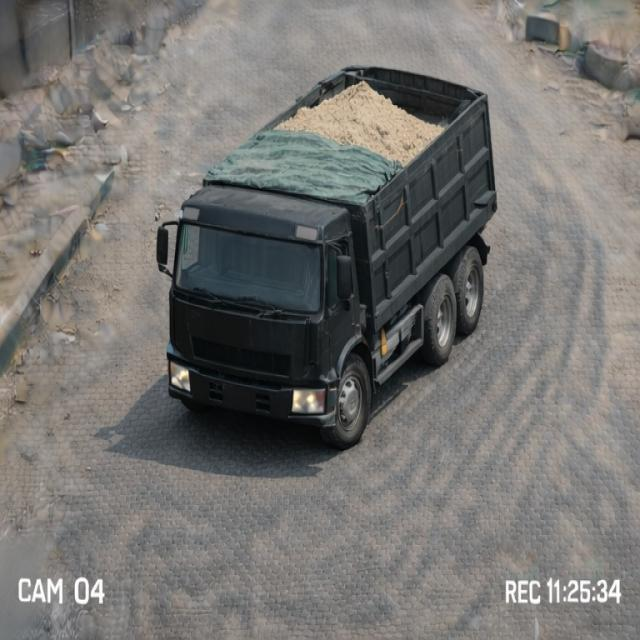Box: (206, 59, 484, 208)
Truck: (153, 52, 514, 454)
